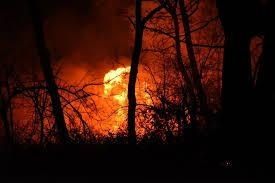fire: (102, 64, 149, 134)
